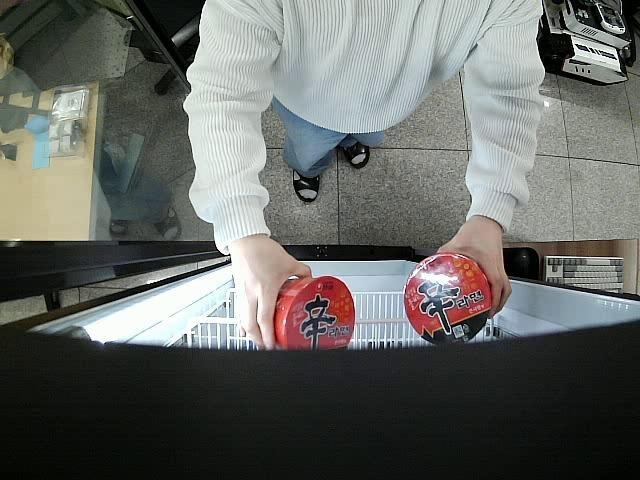01_ShinRamen_L: (404, 256, 492, 343), (268, 276, 358, 349)
